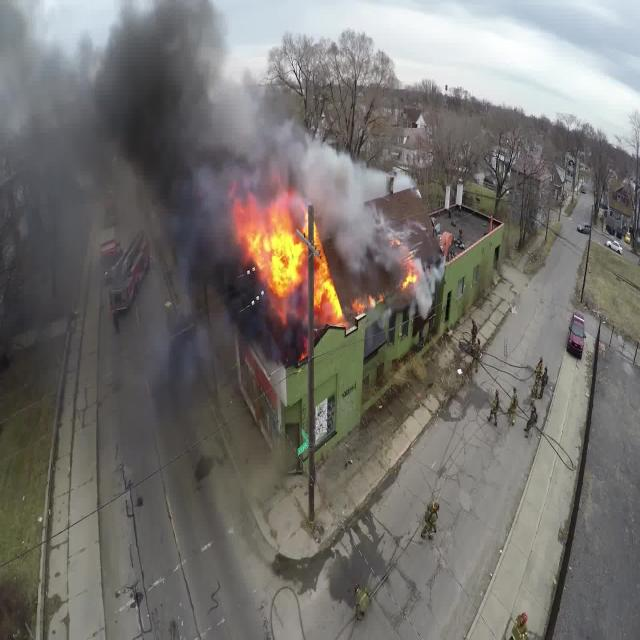Fire: (228, 185, 424, 322)
Smoke: (16, 9, 444, 323)
